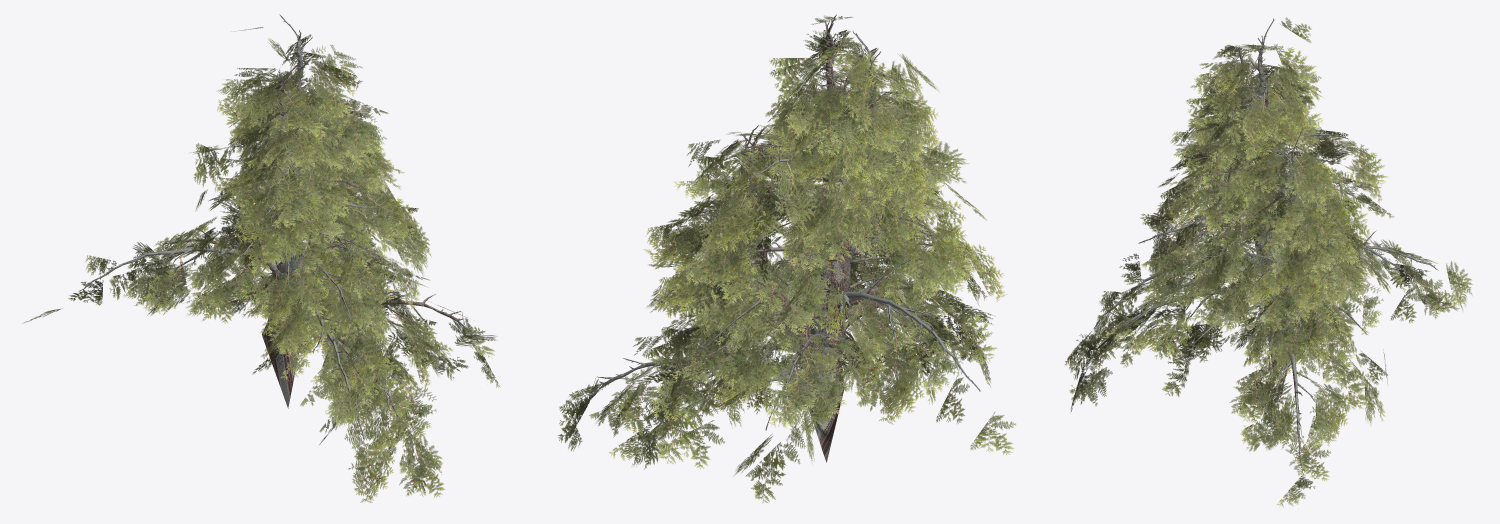
File: conifer_hi.glb
3 views of the same model, side by side, from view 1: azimuth 30°, elevation 25°; view 2: azimuth 150°, elevation 25°; view 3: azimuth 270°, elevation 25° (orthographic). The views are drawn at different scales.
Visible parts, largest first — view 1: Object_3, Object_6, Object_9, Object_4, Object_7, Object_5, Object_8, Object_2; view 2: Object_3, Object_6, Object_7, Object_4, Object_9, Object_8, Object_2, Object_5; view 3: Object_6, Object_3, Object_7, Object_4, Object_9, Object_5, Object_8, Object_2.
Boxes of the visible parts, bbox=[...] form: Object_3: bbox=[122, 79, 442, 484]; Object_6: bbox=[85, 45, 500, 467]; Object_9: bbox=[125, 38, 439, 444]; Object_4: bbox=[22, 27, 497, 497]; Object_7: bbox=[144, 60, 432, 502]; Object_5: bbox=[109, 52, 494, 480]; Object_8: bbox=[139, 44, 468, 492]; Object_2: bbox=[78, 14, 478, 440]; Object_3: bbox=[595, 53, 993, 475]; Object_6: bbox=[564, 30, 987, 460]; Object_7: bbox=[613, 30, 1006, 437]; Object_4: bbox=[558, 35, 1015, 469]; Object_9: bbox=[649, 49, 997, 503]; Object_8: bbox=[589, 15, 979, 470]; Object_2: bbox=[574, 14, 980, 462]; Object_5: bbox=[609, 30, 982, 440]; Object_6: bbox=[1076, 54, 1459, 507]; Object_3: bbox=[1072, 44, 1472, 450]; Object_7: bbox=[1065, 45, 1382, 449]; Object_4: bbox=[1070, 17, 1458, 481]; Object_9: bbox=[1093, 44, 1463, 421]; Object_5: bbox=[1073, 57, 1387, 451]; Object_8: bbox=[1069, 59, 1430, 448]; Object_2: bbox=[1094, 18, 1438, 466].
Bounding box in the file's own units: 9.12 × 8.22 × 8.15.
8 materials, 8 textured.
